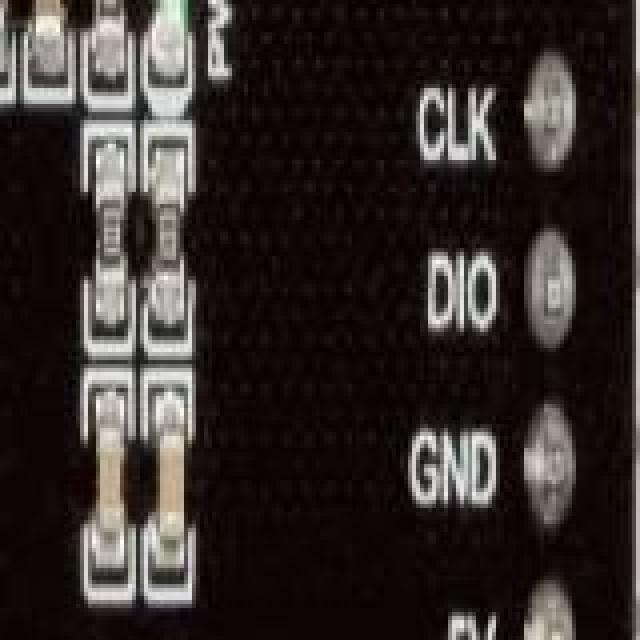LED: (156, 0, 192, 72)
capacitor: (160, 396, 192, 578), (96, 404, 126, 562), (28, 0, 68, 60)
resistor: (92, 140, 130, 330), (148, 144, 182, 320), (96, 0, 128, 68)
